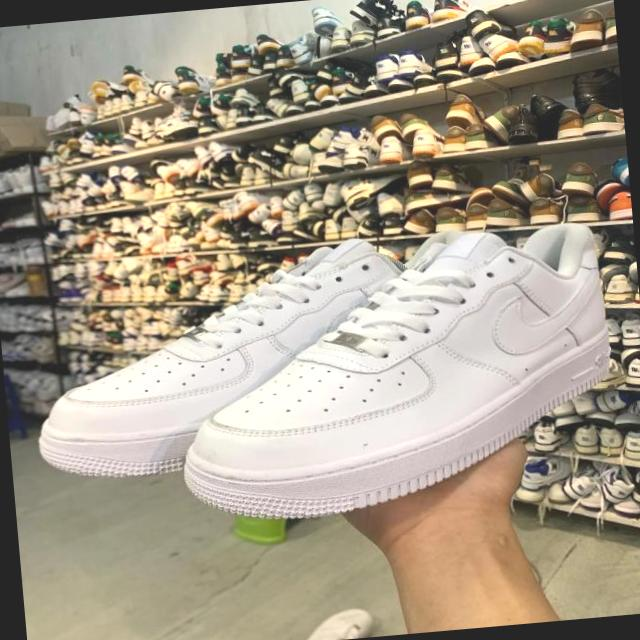nike_fake_airforce: (157, 216, 636, 534), (18, 225, 475, 486)
